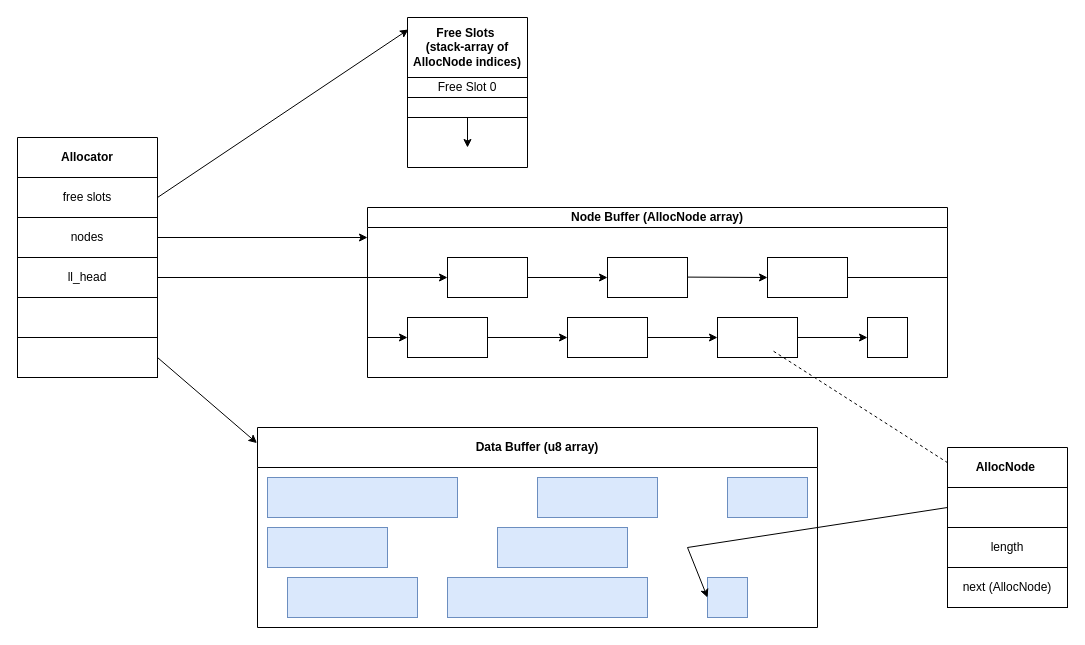
The diagram is 1085 pixels wide and 645 high, and some of its shapes have lost their labels. The centre of each missing label's shape, as x and y in pixels:
"data" belongs at point (87, 357).
"Free Slot 1" belongs at point (467, 107).
"NULL" belongs at point (887, 337).
"sp (idx of last AllocNode)" belongs at point (87, 317).
"start" belongs at point (1007, 507).
